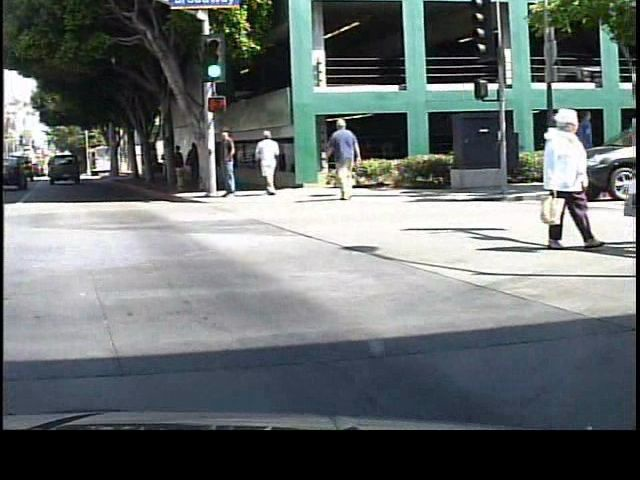person: (532, 99, 601, 255), (329, 116, 364, 199), (219, 126, 249, 208), (568, 105, 597, 184), (255, 125, 283, 198), (184, 139, 205, 191), (169, 142, 185, 189)
